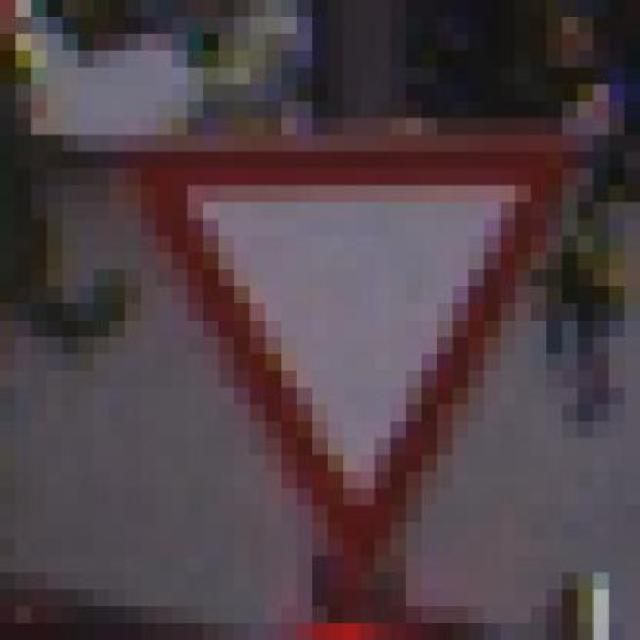Give Way: (125, 84, 609, 607)
